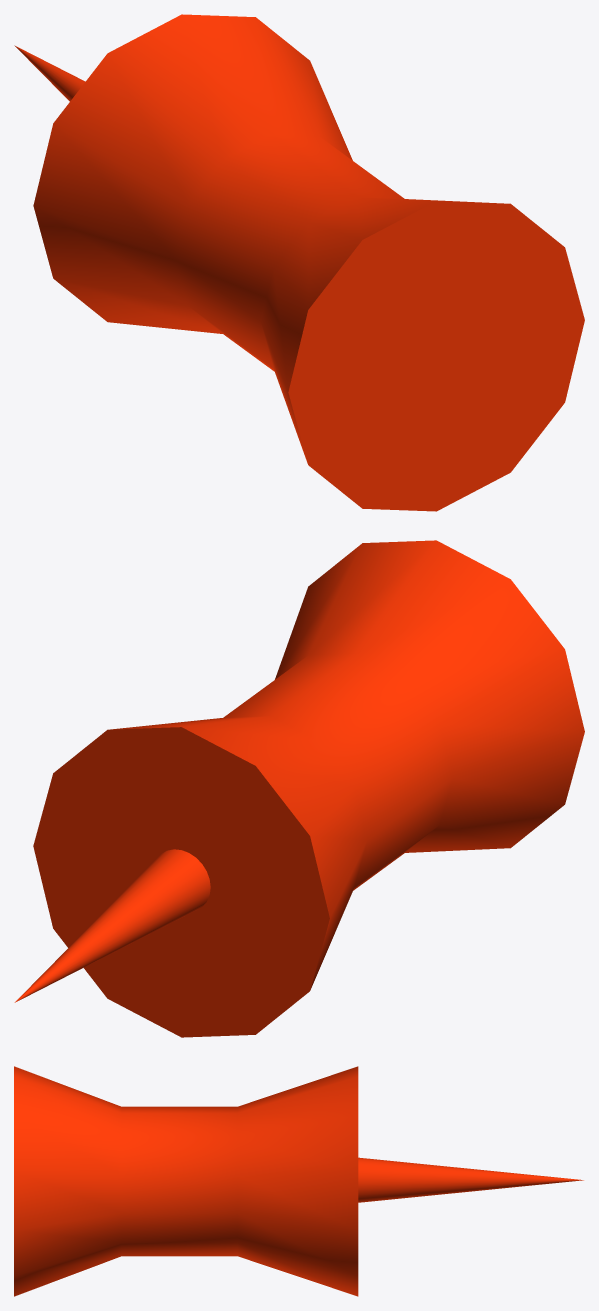
The model's file is Orange Pin.FBX.
3 renders of one model, top to bottom at view 1: azimuth 30°, elevation 25°; view 2: azimuth 150°, elevation 25°; view 3: azimuth 270°, elevation 25°, orthographic. The views are drawn at different scales.
Visible parts, largest first — view 1: Pin002, Pin Red; view 2: Pin002, Pin Red; view 3: Pin002, Pin Red.
Part boxes in pixels (box(x1,y1,x2,y2)): Pin002: box(33, 14, 584, 511); Pin Red: box(14, 45, 85, 101); Pin002: box(33, 540, 584, 1037); Pin Red: box(14, 849, 210, 1002); Pin002: box(14, 1066, 358, 1296); Pin Red: box(358, 1157, 583, 1202).
Size of the model in its own units: 0.01 by 0.01 by 0.0247.
